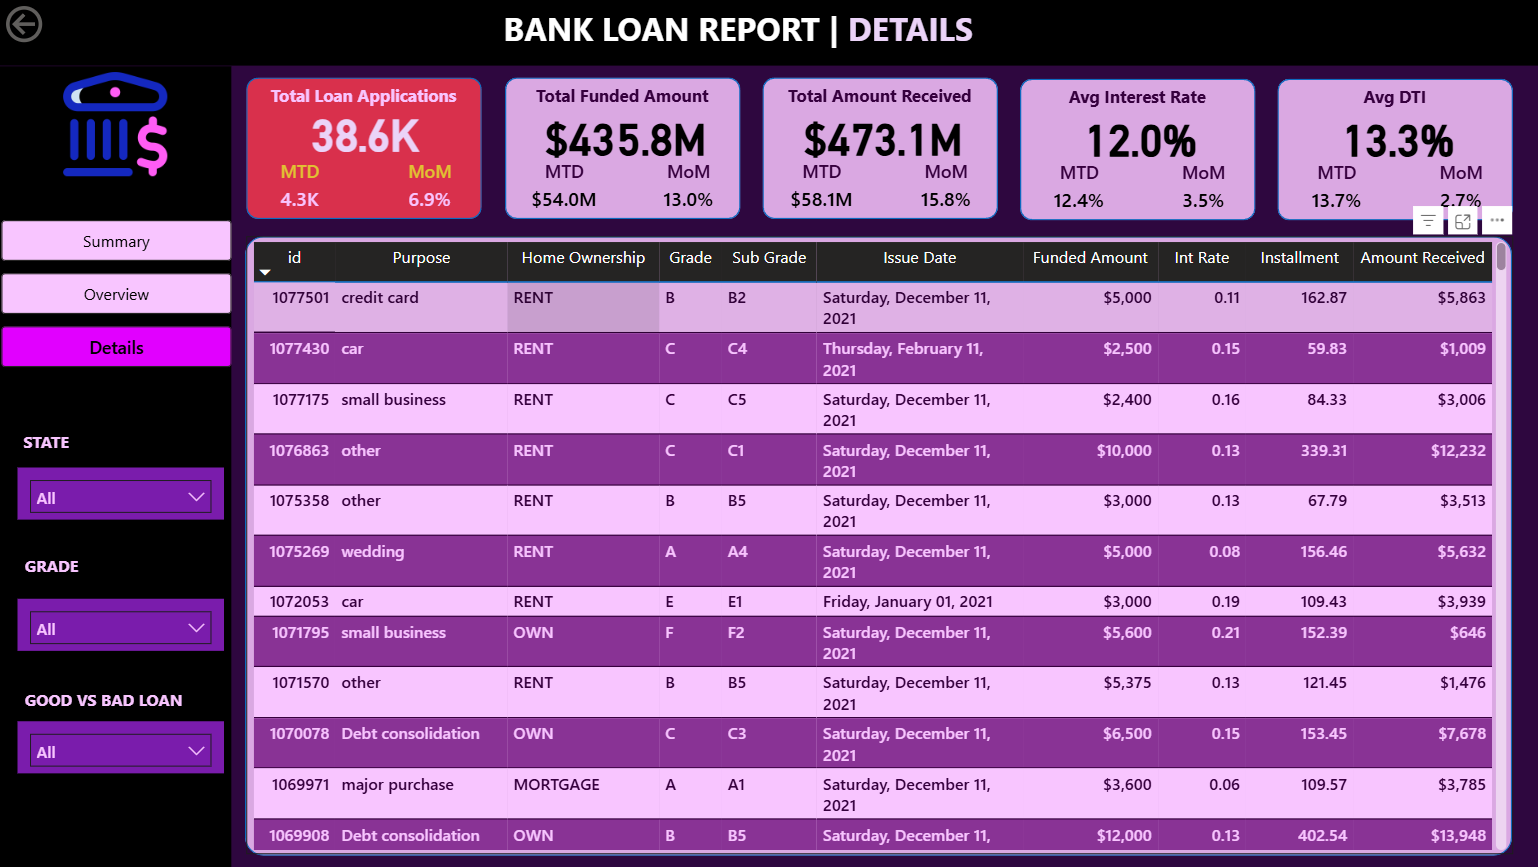

This screenshot's page, from the dashboard's own definition file:
{"tool":"powerbi","page":{"name":"Details","canvas":[1280,720],"ordinal":2},"visuals":[{"type":"shape","box":[0,0,1280.2,54.7],"z":0},{"type":"shape","box":[204.7,64,195.3,117.4],"z":0,"group":"g1"},{"type":"shape","box":[418.4,64.2,195.3,117.4],"z":0,"group":"g2"},{"type":"shape","box":[632,64.5,195.3,117.4],"z":0,"group":"g3"},{"type":"shape","box":[845.7,64.8,195.3,117.4],"z":0,"group":"g4"},{"type":"shape","box":[1059.3,65.1,195.3,117.4],"z":0,"group":"g5"},{"type":"shape","box":[0,54.7,191.9,665.1],"z":1000},{"type":"card","fields":{"Values":["financial_loan.Total Loan Applications"]},"box":[248.8,78,108.1,64],"z":1000,"group":"g1"},{"type":"card","fields":{"Values":["financial_loan.Total Funded Amount"]},"box":[443.7,84,148.8,58.1],"z":1000,"group":"g2"},{"type":"card","fields":{"Values":["financial_loan.Total Amount Received"]},"box":[657.3,84.3,148.8,58.1],"z":1000,"group":"g3"},{"type":"card","fields":{"Values":["financial_loan.Avg Interest Rate"]},"box":[871,84.6,148.8,58.1],"z":1000,"group":"g4"},{"type":"card","fields":{"Values":["financial_loan.Avg DTI"]},"box":[1084.6,84.9,148.8,58.1],"z":1000,"group":"g5"},{"type":"textbox","box":[203.5,64,196.5,30.2],"z":2000,"group":"g1"},{"type":"textbox","box":[417.2,64.2,196.5,30.2],"z":2000,"group":"g2"},{"type":"textbox","box":[630.8,64.5,196.5,30.2],"z":2000,"group":"g3"},{"type":"textbox","box":[844.5,64.8,196.5,30.2],"z":2000,"group":"g4"},{"type":"textbox","box":[1058.1,65.1,196.5,30.2],"z":2000,"group":"g5"},{"type":"shape","box":[203.5,195.3,1051.2,514],"z":2000},{"type":"textbox","box":[412.8,0,454.7,64],"z":3000},{"type":"card","title":"MTD","fields":{"Values":["financial_loan.MTD Loan Applications"]},"box":[220.9,131.4,55.8,50],"z":3000,"group":"g1"},{"type":"card","title":"MTD","fields":{"Values":["financial_loan.MTD Funded Amount"]},"box":[434.4,131.7,65.1,50],"z":3000,"group":"g2"},{"type":"card","title":"MTD","fields":{"Values":["financial_loan.MTD Total Amount Received"]},"box":[648,132,65.1,50],"z":3000,"group":"g3"},{"type":"card","title":"MTD","fields":{"Values":["financial_loan.MTD Avg Interest Rate"]},"box":[861.7,132.3,65.1,50],"z":3000,"group":"g4"},{"type":"card","title":"MTD","fields":{"Values":["financial_loan.MTD Avg DTI"]},"box":[1075.3,132.6,65.1,50],"z":3000,"group":"g5"},{"type":"group","id":"g1","title":"Group 1","box":[203.5,64,196.5,117.4],"z":4000},{"type":"card","title":"MoM","fields":{"Values":["financial_loan.MOM Loan Applications"]},"box":[329.1,131.4,55.8,50],"z":4000,"group":"g1"},{"type":"card","title":"MoM","fields":{"Values":["financial_loan.MOM Funded Amount"]},"box":[542.8,131.6,55.8,50],"z":4000,"group":"g2"},{"type":"card","title":"MoM","fields":{"Values":["financial_loan.MOM Total Amount Recieved"]},"box":[756.4,131.9,55.8,50],"z":4000,"group":"g3"},{"type":"card","title":"MoM","fields":{"Values":["financial_loan.MOM Avg Interest Rate"]},"box":[970.1,132.2,55.8,50],"z":4000,"group":"g4"},{"type":"card","title":"MoM","fields":{"Values":["financial_loan.MOM Avg DTI"]},"box":[1183.7,132.5,55.8,50],"z":4000,"group":"g5"},{"type":"group","id":"g2","title":"Group 1","box":[417.2,64.2,196.5,117.4],"z":5000},{"type":"group","id":"g3","title":"Group 1","box":[630.8,64.5,196.5,117.4],"z":6000},{"type":"group","id":"g4","title":"Group 1","box":[844.5,64.8,196.5,117.4],"z":7000},{"type":"group","id":"g5","title":"Group 1","box":[1058.1,65.1,196.5,117.4],"z":8000},{"type":"actionButton","box":[0,0,100,40],"z":9000},{"type":"slicer","fields":{"Values":["financial_loan.address_state"]},"box":[14.2,387.4,170.9,43],"z":10000},{"type":"textbox","box":[14.2,352.6,64,32.6],"z":11000},{"type":"slicer","fields":{"Values":["financial_loan.grade"]},"box":[14.2,496.7,170.9,43],"z":12000},{"type":"textbox","box":[15.3,454.9,64,32.6],"z":13000},{"type":"slicer","fields":{"Values":["financial_loan.Good VS Bad Loan"]},"box":[14.2,597.9,170.9,43],"z":14000},{"type":"textbox","box":[15.3,565.4,157,32.6],"z":15000},{"type":"tableEx","fields":{"Values":["financial_loan.id","financial_loan.purpose","financial_loan.home_ownership","financial_loan.grade","financial_loan.sub_grade","financial_loan.issue_date","financial_loan.Total Funded Amount","Sum(financial_loan.int_rate)","Sum(financial_loan.installment)","financial_loan.Total Amount Received"]},"box":[204.7,195.3,1050,514],"z":18000},{"type":"image","box":[43,54.7,103.5,96.5],"z":19000},{"type":"pageNavigator","box":[1.2,182.6,191.9,122.1],"z":19001}]}

Visuals, with their boxes in screenshot pixels (x1, y1, x2, y2), scaled from the page's 1280x720 canvas onto the 1538x867 screenshot:
shape: select_region(0, 0, 1537, 66)
shape: select_region(246, 77, 481, 218)
shape: select_region(503, 77, 737, 219)
shape: select_region(759, 78, 994, 219)
shape: select_region(1016, 78, 1251, 219)
shape: select_region(1273, 78, 1507, 220)
shape: select_region(0, 66, 231, 866)
card - financial_loan.Total Loan Applications: select_region(299, 94, 429, 171)
card - financial_loan.Total Funded Amount: select_region(533, 101, 712, 171)
card - financial_loan.Total Amount Received: select_region(790, 102, 969, 171)
card - financial_loan.Avg Interest Rate: select_region(1047, 102, 1225, 172)
card - financial_loan.Avg DTI: select_region(1303, 102, 1482, 172)
textbox: select_region(245, 77, 481, 113)
textbox: select_region(501, 77, 737, 114)
textbox: select_region(758, 78, 994, 114)
textbox: select_region(1015, 78, 1251, 114)
textbox: select_region(1271, 78, 1507, 115)
shape: select_region(245, 235, 1508, 854)
textbox: select_region(496, 0, 1042, 77)
"MTD" card: select_region(265, 158, 332, 218)
"MTD" card: select_region(522, 159, 600, 219)
"MTD" card: select_region(779, 159, 857, 219)
"MTD" card: select_region(1035, 159, 1114, 220)
"MTD" card: select_region(1292, 160, 1370, 220)
"Group 1" group: select_region(245, 77, 481, 218)
"MoM" card: select_region(395, 158, 462, 218)
"MoM" card: select_region(652, 158, 719, 219)
"MoM" card: select_region(909, 159, 976, 219)
"MoM" card: select_region(1166, 159, 1233, 219)
"MoM" card: select_region(1422, 160, 1489, 220)
"Group 1" group: select_region(501, 77, 737, 219)
"Group 1" group: select_region(758, 78, 994, 219)
"Group 1" group: select_region(1015, 78, 1251, 219)
"Group 1" group: select_region(1271, 78, 1507, 220)
actionButton: select_region(0, 0, 120, 48)
slicer - financial_loan.address_state: select_region(17, 466, 222, 518)
textbox: select_region(17, 425, 94, 464)
slicer - financial_loan.grade: select_region(17, 598, 222, 650)
textbox: select_region(18, 548, 95, 587)
slicer - financial_loan.Good VS Bad Loan: select_region(17, 720, 222, 772)
textbox: select_region(18, 681, 207, 720)
tableEx - financial_loan.id x financial_loan.purpose: select_region(246, 235, 1508, 854)
image: select_region(52, 66, 176, 182)
pageNavigator: select_region(1, 220, 232, 367)
